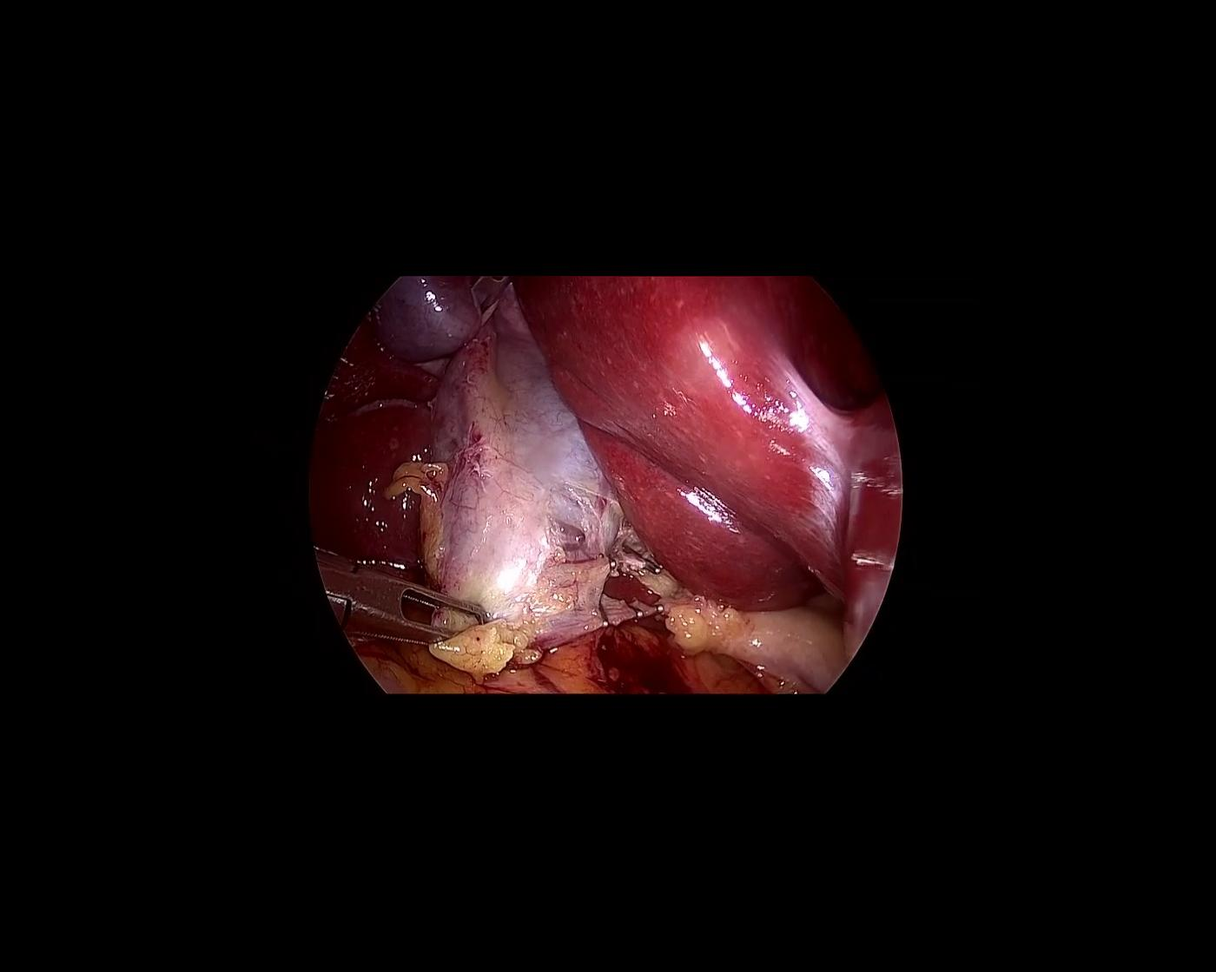Forceps: (289, 543, 497, 681)
Gallbladder: (430, 282, 620, 672)
Liver: (505, 157, 976, 715)
